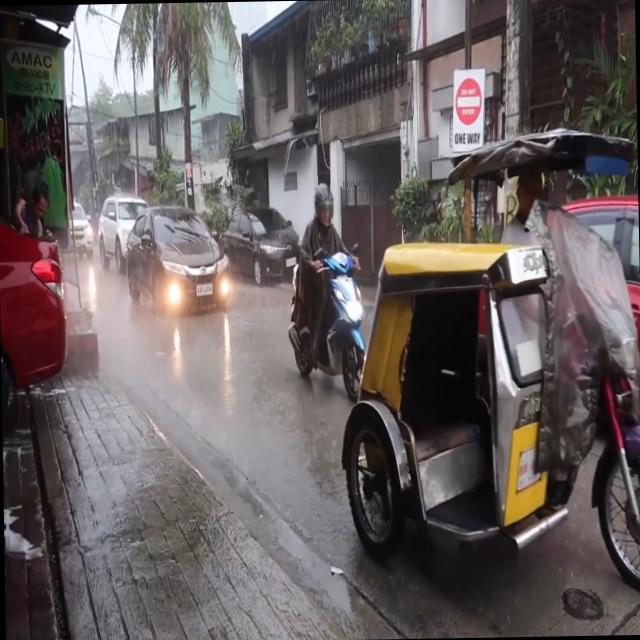half: (311, 178, 336, 232)
